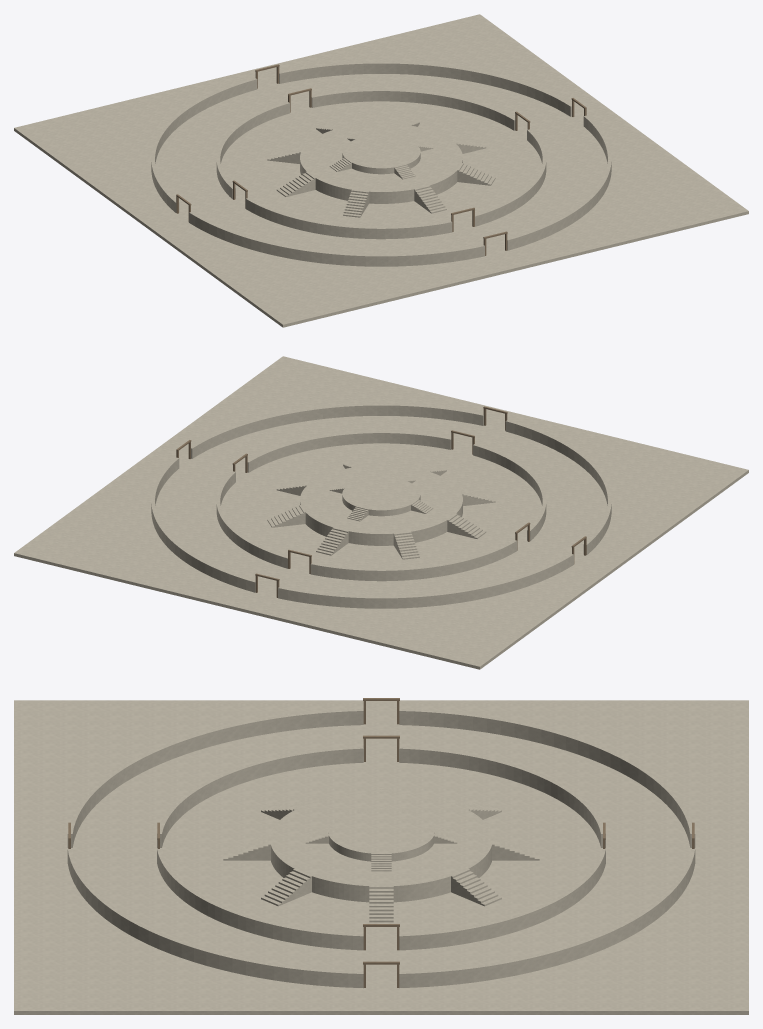
The model's file is south-altar-A.glb.
3 renders of one model, top to bottom at view 1: azimuth 30°, elevation 25°; view 2: azimuth 150°, elevation 25°; view 3: azimuth 270°, elevation 25°, orthographic. The views are drawn at different scales.
Parts seen in each view (by area): view 1: A_presentation_ground, A_lower_platform_with_stairs, A_outer_earth_enclosure.002, A_outer_earth_enclosure, A_upper_platform_with_stairs, A_inner_earth_enclosure.002, A_inner_earth_enclosure, A_outer_earth_enclosure.001, A_outer_earth_enclosure.003, A_inner_earth_enclosure.003, A_inner_earth_enclosure.001; view 2: A_presentation_ground, A_lower_platform_with_stairs, A_outer_earth_enclosure.001, A_outer_earth_enclosure.003, A_upper_platform_with_stairs, A_inner_earth_enclosure.001, A_inner_earth_enclosure.003, A_outer_earth_enclosure.002, A_outer_earth_enclosure, A_inner_earth_enclosure, A_inner_earth_enclosure.002; view 3: A_presentation_ground, A_lower_platform_with_stairs, A_upper_platform_with_stairs, A_outer_earth_enclosure, A_outer_earth_enclosure.003, A_outer_earth_enclosure.001, A_outer_earth_enclosure.002, A_inner_earth_enclosure, A_inner_earth_enclosure.003, A_inner_earth_enclosure.001, A_inner_earth_enclosure.002.
Part boxes in pixels (bbox=[...]): A_presentation_ground: bbox=[14, 14, 748, 327]; A_lower_platform_with_stairs: bbox=[267, 120, 495, 217]; A_outer_earth_enclosure.002: bbox=[189, 212, 484, 266]; A_outer_earth_enclosure: bbox=[279, 62, 571, 116]; A_upper_platform_with_stairs: bbox=[329, 135, 433, 179]; A_inner_earth_enclosure.002: bbox=[245, 198, 452, 239]; A_inner_earth_enclosure: bbox=[311, 89, 515, 130]; A_outer_earth_enclosure.001: bbox=[151, 78, 257, 212]; A_outer_earth_enclosure.003: bbox=[507, 115, 611, 250]; A_inner_earth_enclosure.003: bbox=[475, 129, 546, 226]; A_inner_earth_enclosure.001: bbox=[216, 102, 289, 199]; A_presentation_ground: bbox=[14, 356, 748, 669]; A_lower_platform_with_stairs: bbox=[267, 462, 495, 559]; A_outer_earth_enclosure.001: bbox=[278, 554, 573, 608]; A_outer_earth_enclosure.003: bbox=[191, 404, 483, 458]; A_upper_platform_with_stairs: bbox=[329, 477, 433, 521]; A_inner_earth_enclosure.001: bbox=[310, 540, 517, 581]; A_inner_earth_enclosure.003: bbox=[247, 431, 451, 472]; A_outer_earth_enclosure.002: bbox=[505, 420, 611, 554]; A_outer_earth_enclosure: bbox=[151, 457, 255, 592]; A_inner_earth_enclosure: bbox=[216, 471, 287, 568]; A_inner_earth_enclosure.002: bbox=[473, 444, 546, 541]; A_presentation_ground: bbox=[14, 700, 748, 1014]; A_lower_platform_with_stairs: bbox=[223, 787, 539, 922]; A_upper_platform_with_stairs: bbox=[305, 806, 457, 871]; A_outer_earth_enclosure: bbox=[399, 849, 695, 988]; A_outer_earth_enclosure.003: bbox=[67, 849, 363, 988]; A_outer_earth_enclosure.001: bbox=[399, 708, 695, 847]; A_outer_earth_enclosure.002: bbox=[67, 708, 363, 847]; A_inner_earth_enclosure: bbox=[399, 849, 605, 950]; A_inner_earth_enclosure.003: bbox=[157, 849, 363, 950]; A_inner_earth_enclosure.001: bbox=[399, 746, 605, 847]; A_inner_earth_enclosure.002: bbox=[157, 746, 363, 847].
Size of the model in its own units: 66 by 2.89 by 66.
Materials: 2 (2 with a texture image).
